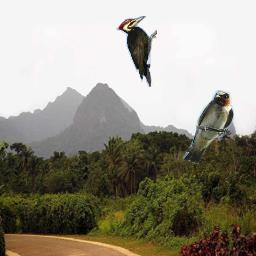Swallow: (182, 90, 234, 164)
Woodpecker: (116, 16, 157, 87)
